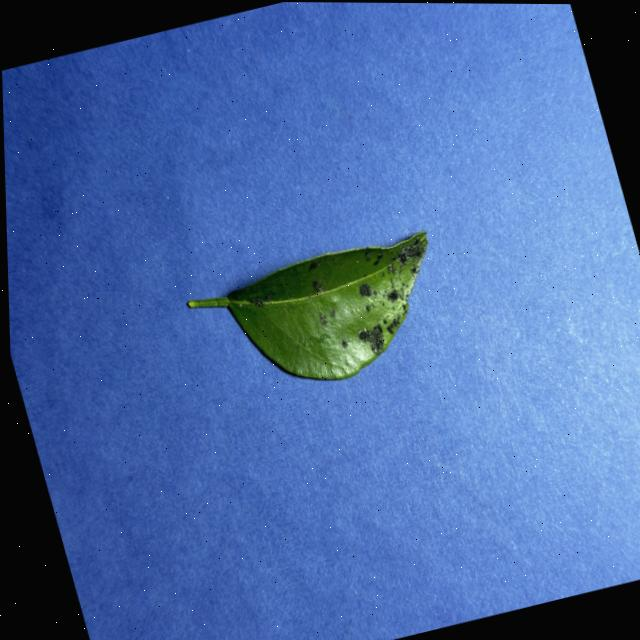sooty_mold: (187, 231, 426, 379)
